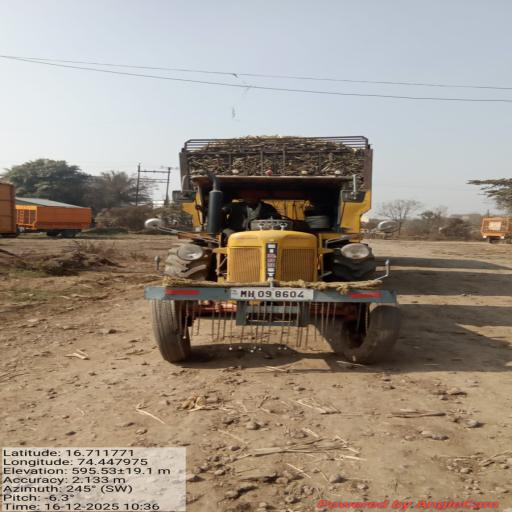number_plate: (230, 288, 314, 301)
